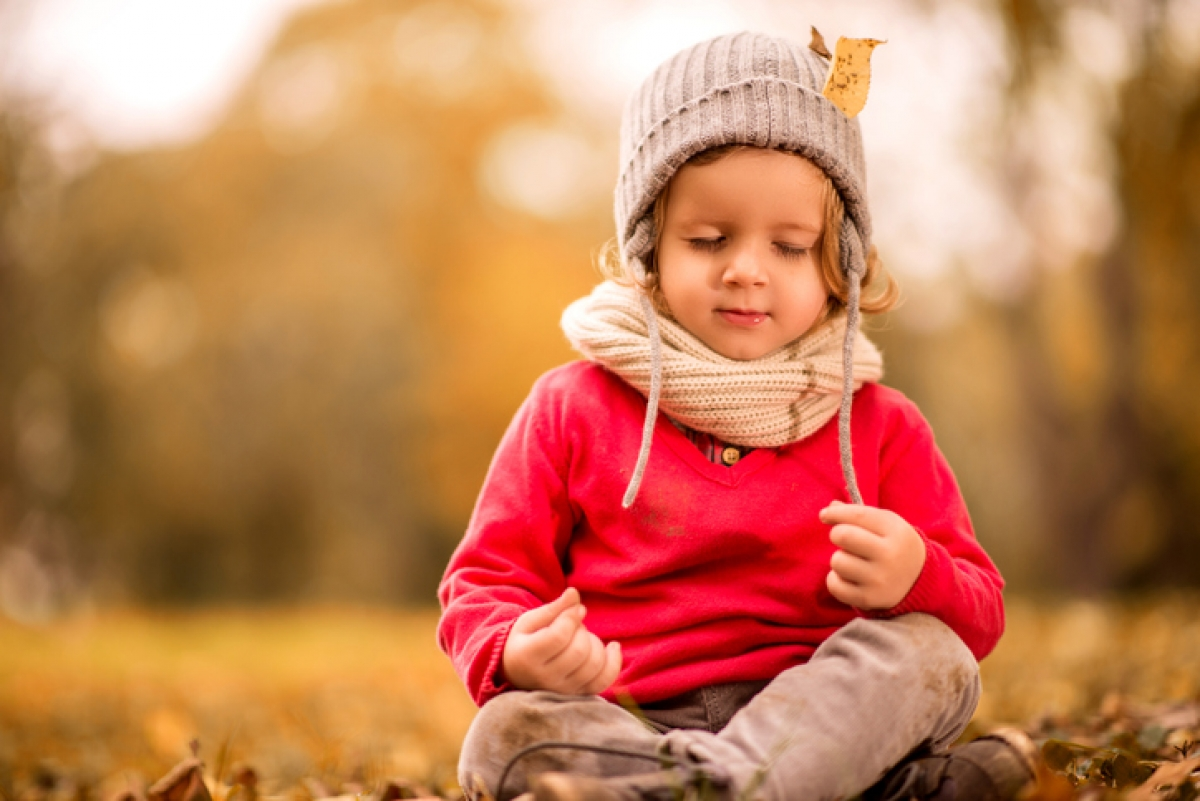human: (436, 29, 1003, 801)
